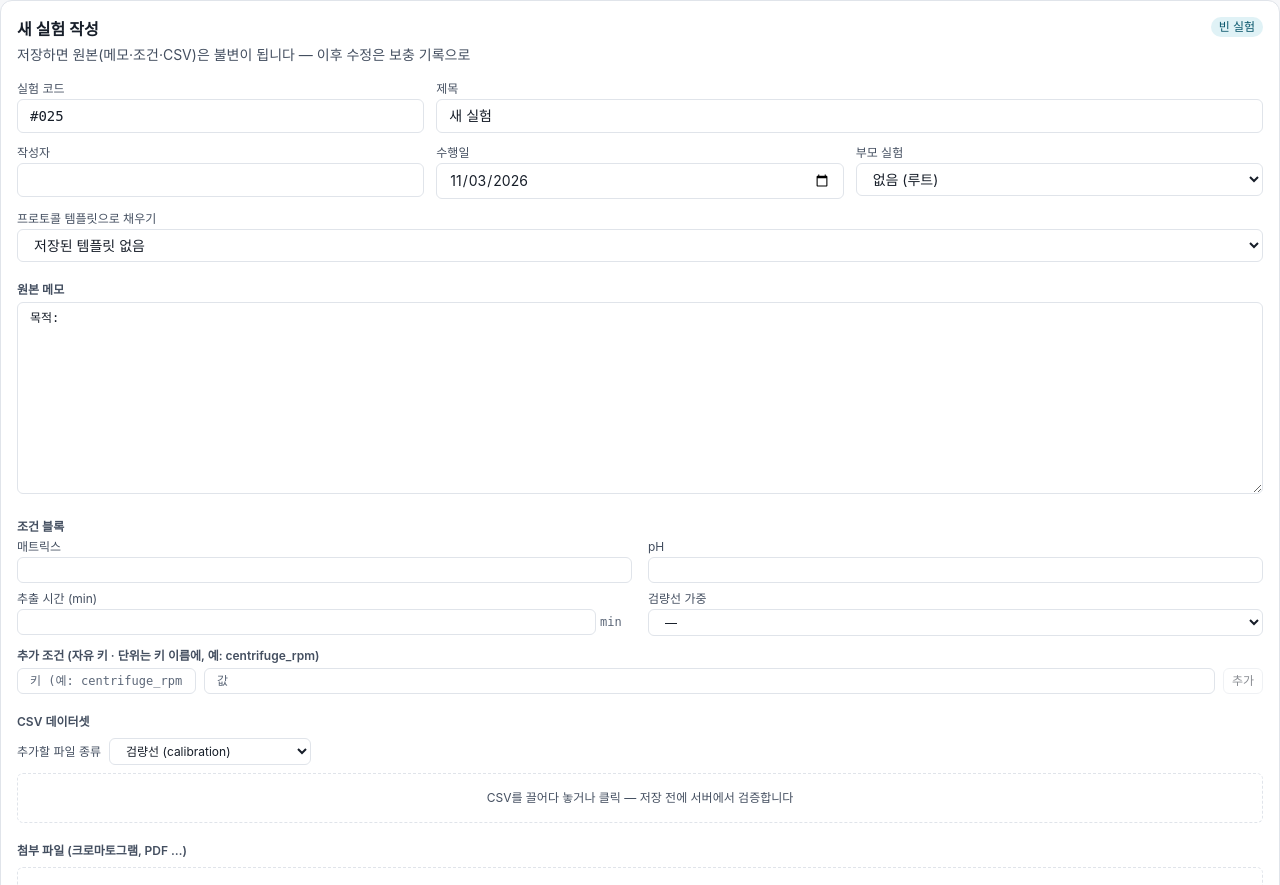
Test: ExperimentComposer › validates conditions on the server and blocks saving on template errors
Type "15" into the number field labelled "pH".
click(956, 570); type("15")  # box [648,557,1263,583]
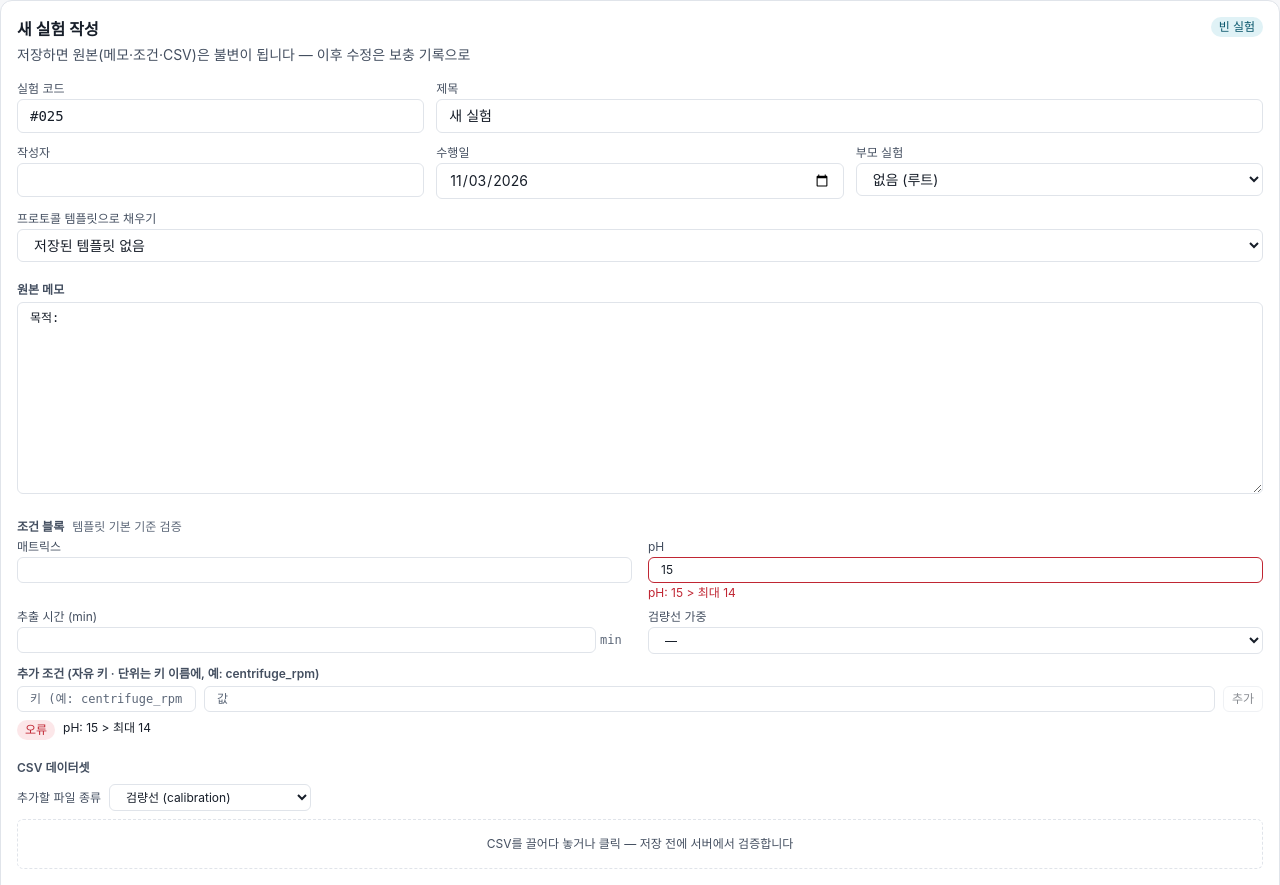
Expected: the text "min" is shown, [600,633,622,647]
Expected: the 1st text "pH: 15 > 최대 14" is shown, [648,585,736,600]
